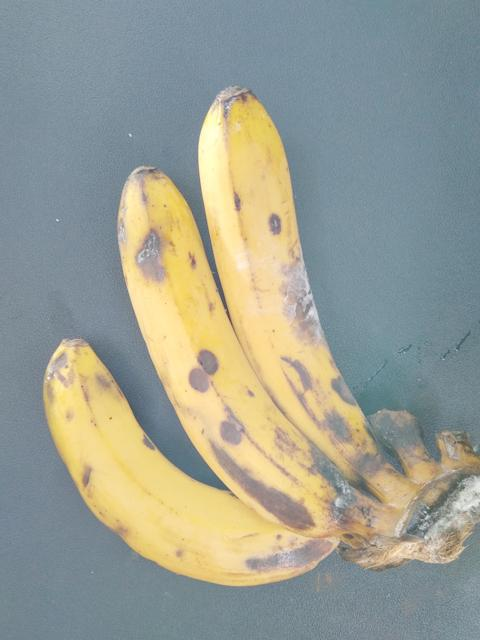ripe: (97, 147, 337, 525), (22, 335, 314, 601)
rotten: (191, 65, 386, 475)
